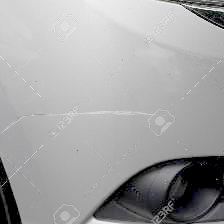bumper_scratch: (7, 61, 192, 149)
